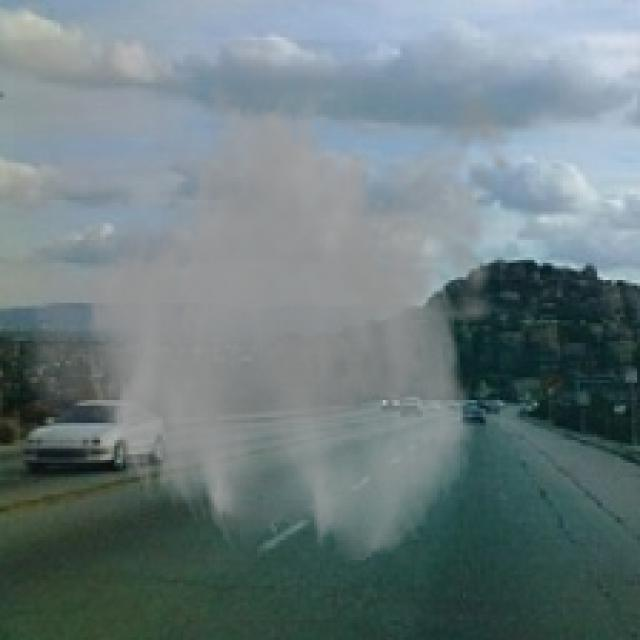Smoke: (14, 40, 529, 566)
